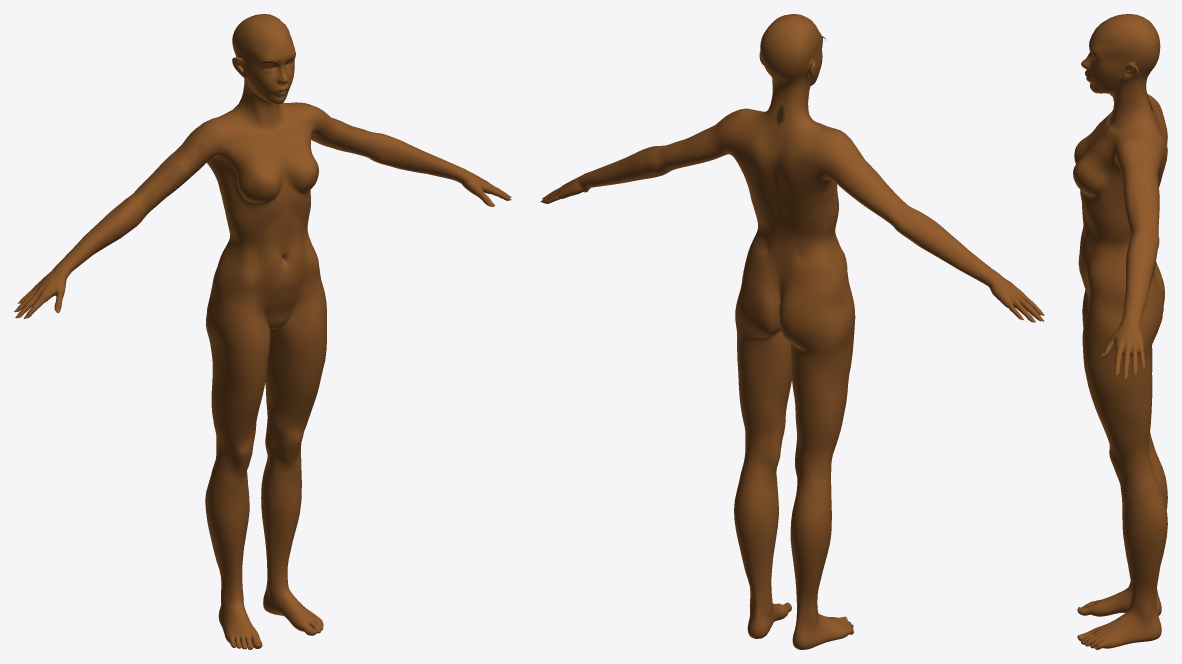
Rendered from female_XS_5.glb.
The picture shows the model from 3 angles, left to right: view 1: azimuth 30°, elevation 25°; view 2: azimuth 150°, elevation 25°; view 3: azimuth 270°, elevation 25°; orthographic projection.
Visible parts, largest first — view 1: Body; view 2: Body; view 3: Body.
Part boxes in pixels (<box>): Body: <box>16,14,511,649</box>; Body: <box>542,14,1041,649</box>; Body: <box>1073,14,1167,649</box>.
Bounding box in the file's own units: 1.58 × 1.85 × 0.2597.
